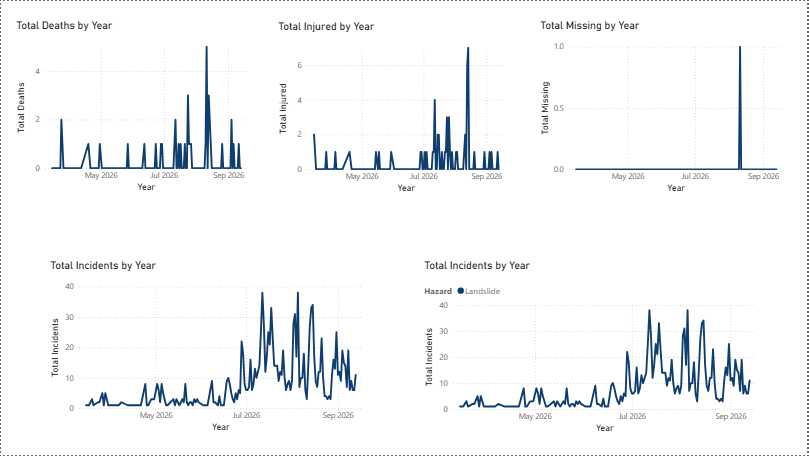

This screenshot's page, from the dashboard's own definition file:
{"tool":"powerbi","page":{"name":"Disaster Trend Analysis","canvas":[1280,720],"ordinal":2},"visuals":[{"type":"lineChart","title":"Total Incidents by Year","fields":{"Y":["Dim_Date.Total Incidents"],"Category":["Dim_Date.Date.Variation.Date Hierarchy.Year","Dim_Date.Date.Variation.Date Hierarchy.Quarter","Dim_Date.Date.Variation.Date Hierarchy.Month","Dim_Date.Date.Variation.Date Hierarchy.Day"]},"box":[73.3,410,520,280],"z":0},{"type":"lineChart","title":"Total Deaths by Year","fields":{"Y":["Dim_Date.Total Deaths"],"Category":["Dim_Date.Date.Variation.Date Hierarchy.Year","Dim_Date.Date.Variation.Date Hierarchy.Quarter","Dim_Date.Date.Variation.Date Hierarchy.Month","Dim_Date.Date.Variation.Date Hierarchy.Day"]},"box":[18.3,28.3,391.7,280],"z":1000},{"type":"lineChart","title":"Total Injured by Year","fields":{"Y":["Dim_Date.Total Injured"],"Category":["Dim_Date.Date.Variation.Date Hierarchy.Year","Dim_Date.Date.Variation.Date Hierarchy.Quarter","Dim_Date.Date.Variation.Date Hierarchy.Month","Dim_Date.Date.Variation.Date Hierarchy.Day"]},"box":[435,30,385,280],"z":2000},{"type":"lineChart","title":"Total Missing by Year","fields":{"Y":["Dim_Date.Total Missing"],"Category":["Dim_Date.Date.Variation.Date Hierarchy.Year","Dim_Date.Date.Variation.Date Hierarchy.Quarter","Dim_Date.Date.Variation.Date Hierarchy.Month","Dim_Date.Date.Variation.Date Hierarchy.Day"]},"box":[850,28.3,410,281.7],"z":3000},{"type":"lineChart","title":"Total Incidents by Year","fields":{"Y":["Dim_Date.Total Incidents"],"Series":["incidents-wise.Hazard"],"Category":["Dim_Date.Date.Variation.Date Hierarchy.Year","Dim_Date.Date.Variation.Date Hierarchy.Quarter","Dim_Date.Date.Variation.Date Hierarchy.Month","Dim_Date.Date.Variation.Date Hierarchy.Day"]},"box":[666.7,410,551.7,281.7],"z":4000}]}

Visuals, with their boxes in screenshot pixels (x1, y1, x2, y2), scaled from the page's 1280x720 canvas onto the 810x456 screenshot:
"Total Incidents by Year" lineChart: [x1=46, y1=260, x2=375, y2=437]
"Total Deaths by Year" lineChart: [x1=12, y1=18, x2=259, y2=195]
"Total Injured by Year" lineChart: [x1=275, y1=19, x2=519, y2=196]
"Total Missing by Year" lineChart: [x1=538, y1=18, x2=797, y2=196]
"Total Incidents by Year" lineChart: [x1=422, y1=260, x2=771, y2=438]
